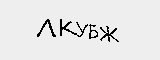Б: (86, 22, 100, 41)
Ж: (100, 24, 121, 44)
К: (59, 17, 78, 40)
Л: (39, 17, 56, 38)
У: (75, 22, 88, 41)
